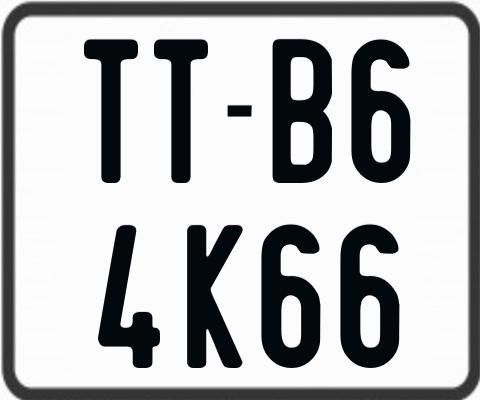4: (97, 223, 161, 369)
6: (350, 36, 412, 185), (258, 224, 321, 368), (339, 222, 401, 367)
B: (270, 36, 331, 185)
K: (186, 224, 243, 373)
T: (82, 39, 140, 189), (153, 39, 207, 184)
